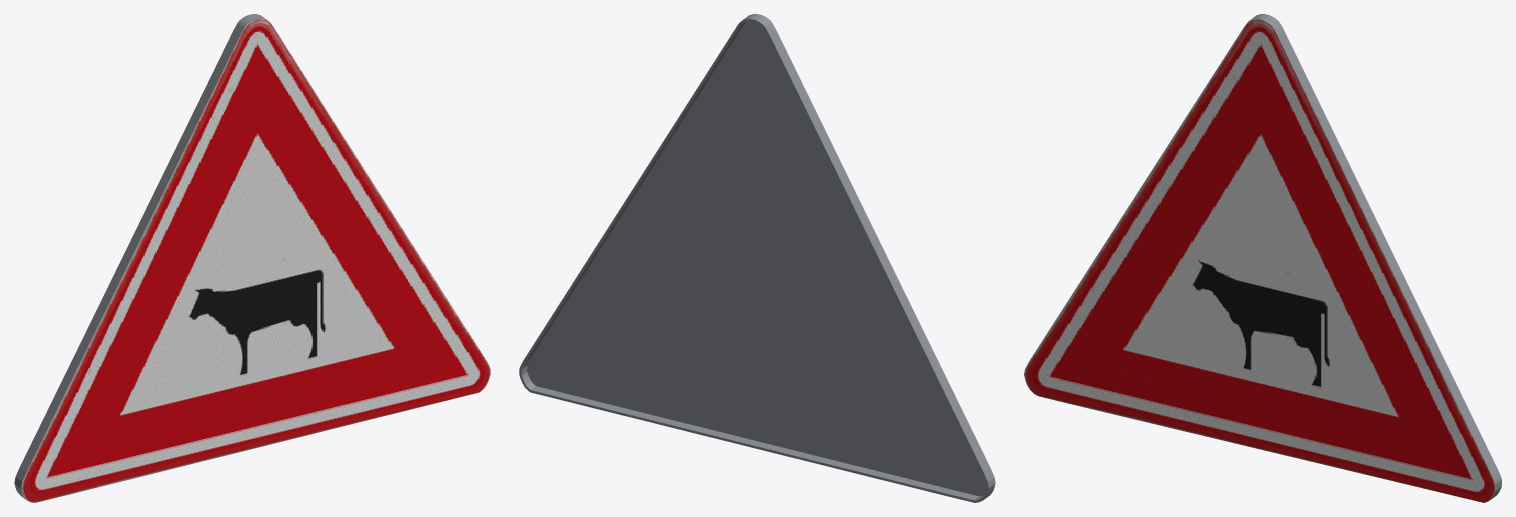
The picture shows the model from 3 angles, left to right: view 1: azimuth 30°, elevation 25°; view 2: azimuth 150°, elevation 25°; view 3: azimuth 330°, elevation 25°; orthographic projection.
Parts seen in each view (by area): view 1: cat_0f15ce67172c69f9; view 2: cat_0f15ce67172c69f9; view 3: cat_0f15ce67172c69f9.
Boxes of the visible parts, box(x1,y1,x2,y2) form: cat_0f15ce67172c69f9: box(14, 14, 490, 502); cat_0f15ce67172c69f9: box(519, 14, 995, 502); cat_0f15ce67172c69f9: box(1024, 14, 1501, 502).
Size of the model in its own units: 0.6 by 0.015 by 0.5245.
2 materials, 1 textured.
